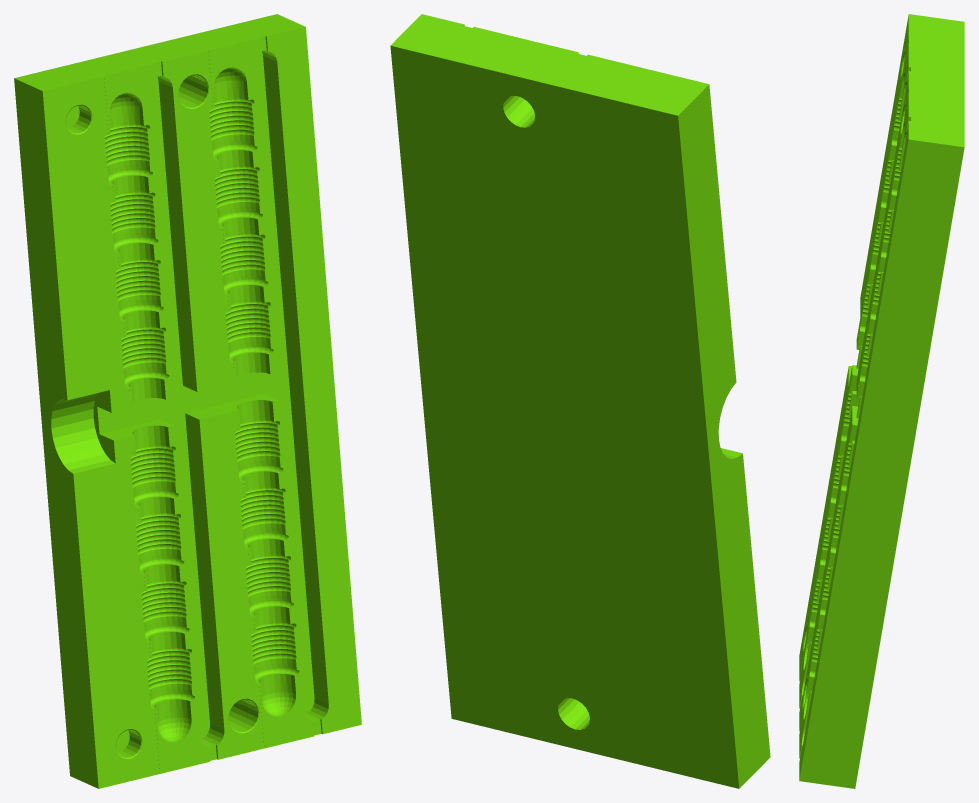
Rendered from wacky-wrap-mold.glb.
The picture shows the model from 3 angles, left to right: view 1: azimuth 30°, elevation 25°; view 2: azimuth 150°, elevation 25°; view 3: azimuth 270°, elevation 25°; orthographic projection. The views are drawn at different scales.
Parts seen in each view (by area): view 1: senko公模给wacky-wrap用; view 2: senko公模给wacky-wrap用; view 3: senko公模给wacky-wrap用.
Part boxes in pixels (box(x1,y1,x2,y2)): senko公模给wacky-wrap用: box(14, 14, 361, 788); senko公模给wacky-wrap用: box(390, 14, 770, 788); senko公模给wacky-wrap用: box(799, 14, 964, 788).
Size of the model in its own units: 63 by 152 by 35.07.
